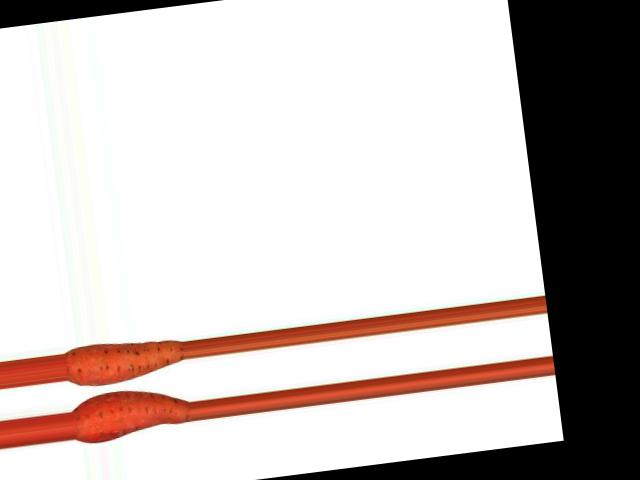sweet_potato: (63, 335, 183, 390)
